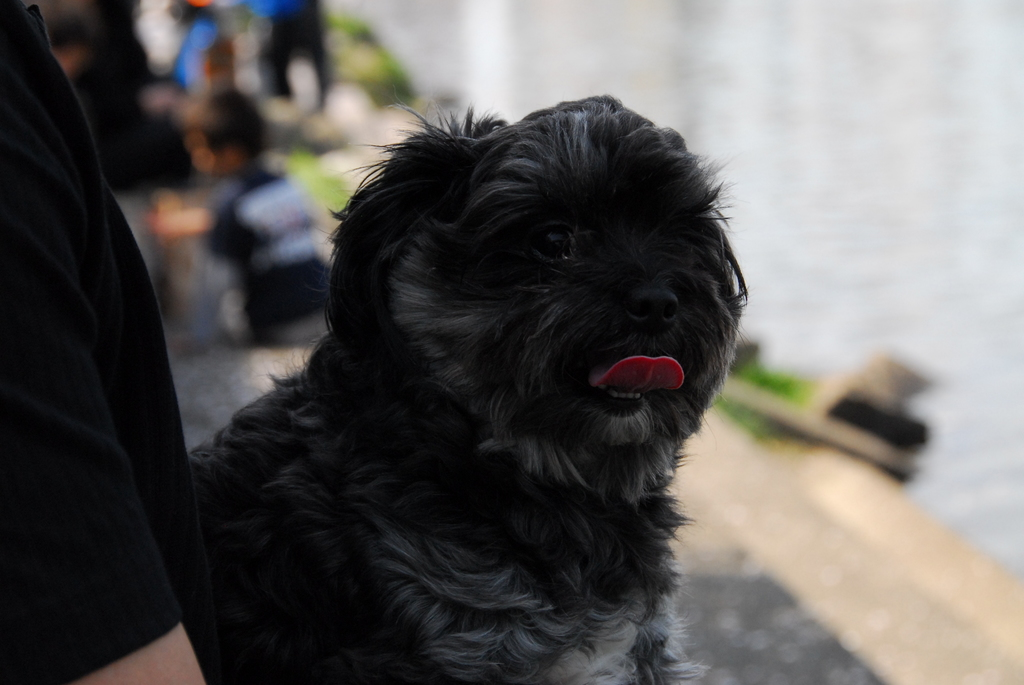Person: (0, 0, 329, 685)
